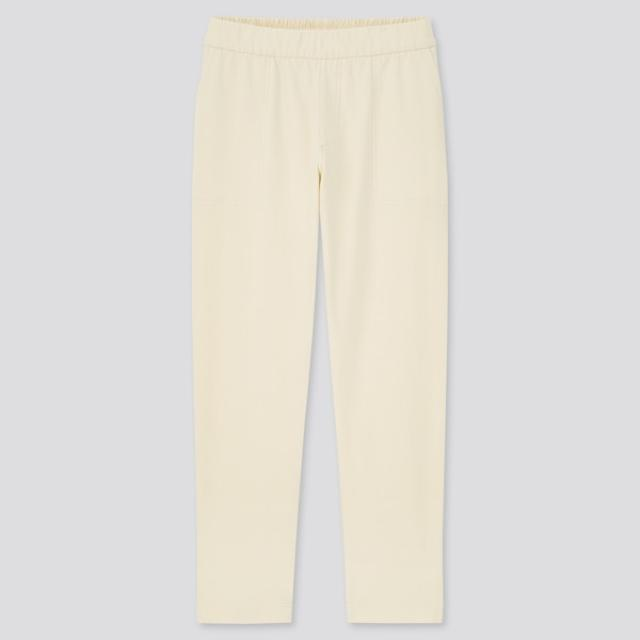long-pants: (192, 16, 452, 629)
